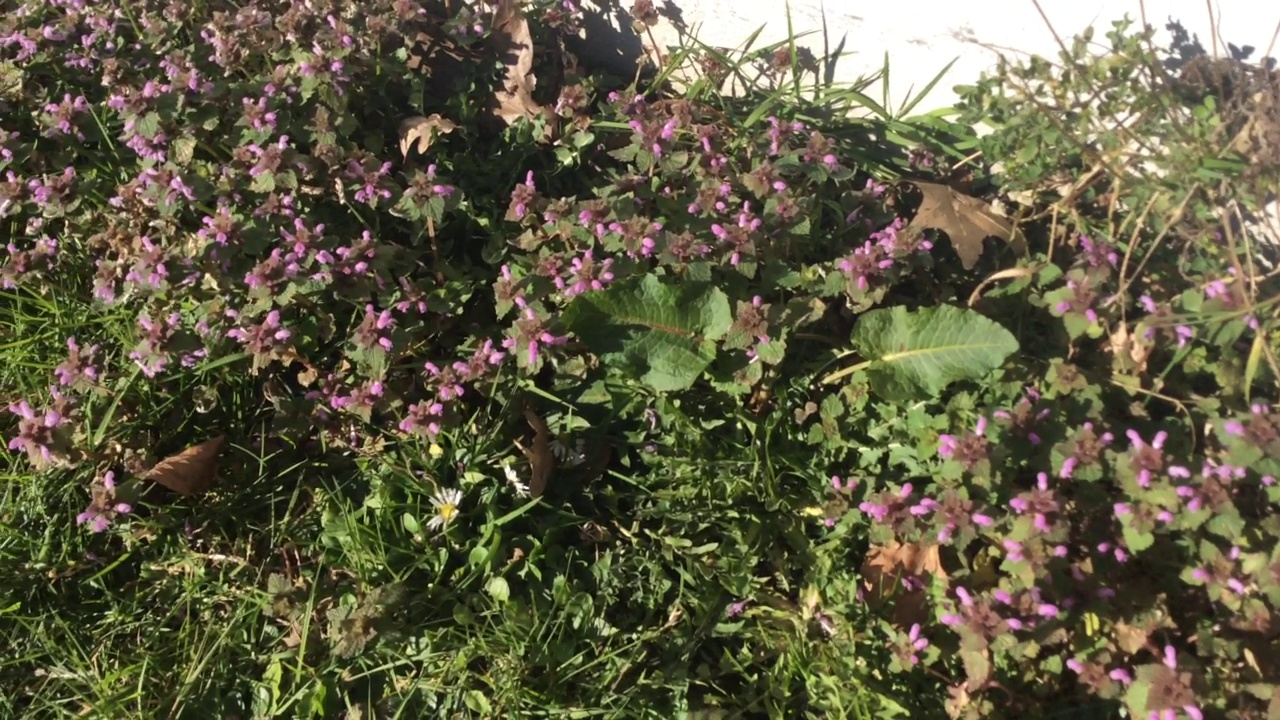rumex: (542, 273, 1021, 395)
